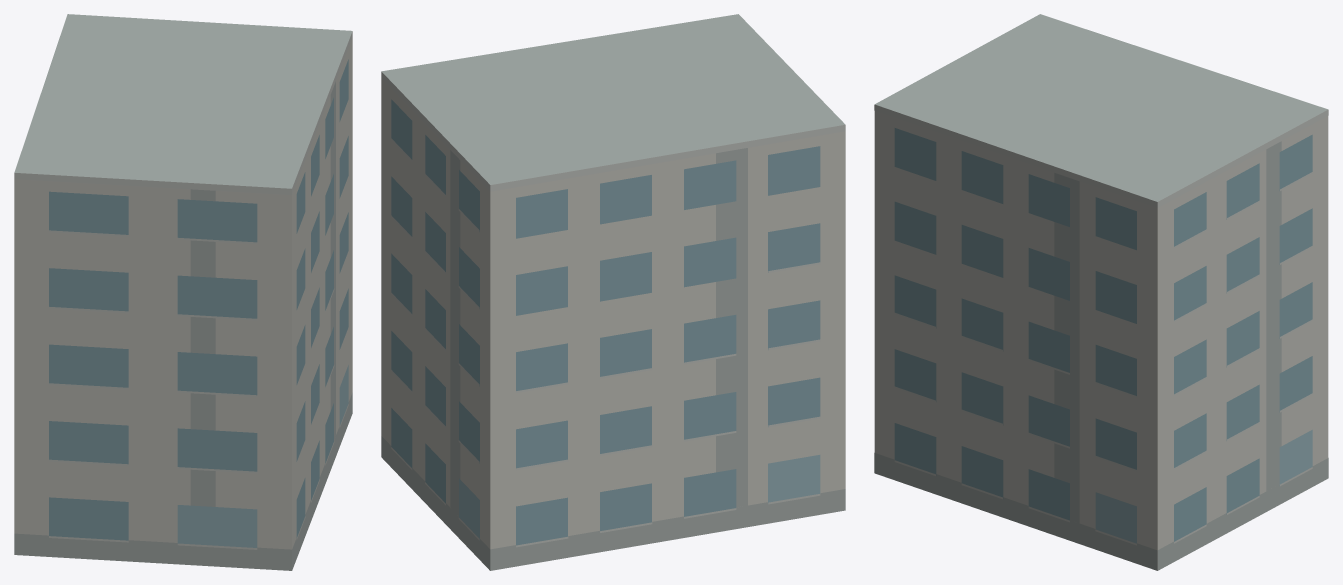
File: survey-upis-32881880.glb
The picture shows the model from 3 angles, left to right: view 1: azimuth 30°, elevation 25°; view 2: azimuth 150°, elevation 25°; view 3: azimuth 270°, elevation 25°; orthographic projection. The views are drawn at different scales.
Visible parts, largest first — view 1: survey-upis-32881880.tmp; view 2: survey-upis-32881880.tmp; view 3: survey-upis-32881880.tmp.
Part boxes in pixels (x1,y1,x2,y2): survey-upis-32881880.tmp: [14, 14, 352, 570]; survey-upis-32881880.tmp: [381, 14, 845, 570]; survey-upis-32881880.tmp: [874, 14, 1328, 570].
Bounding box in the file's own units: 15.8 × 14.45 × 16.13.
